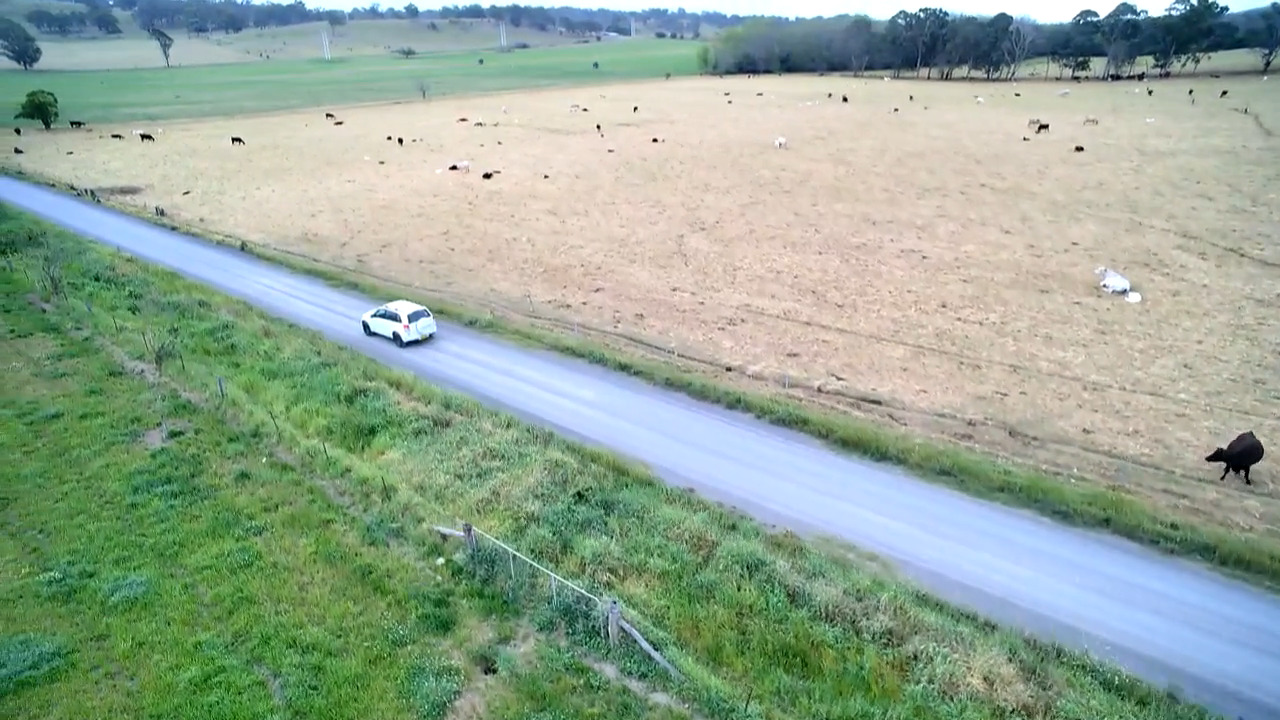Car: (361, 299, 437, 347)
